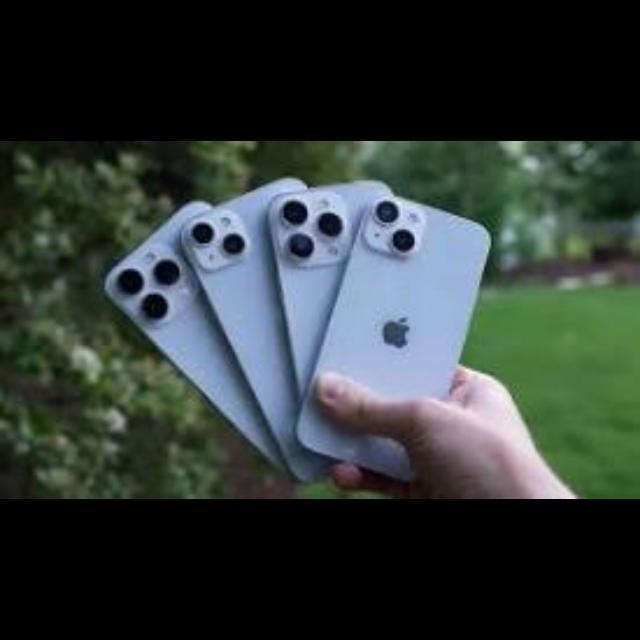phone: (85, 161, 554, 493)
